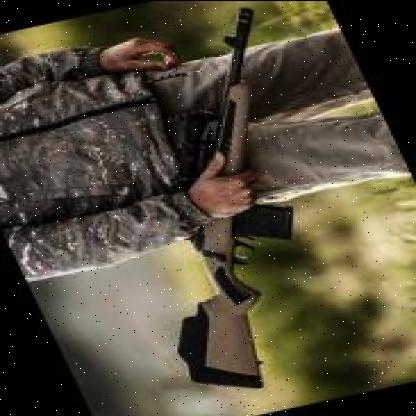rifle: (20, 0, 415, 412)
